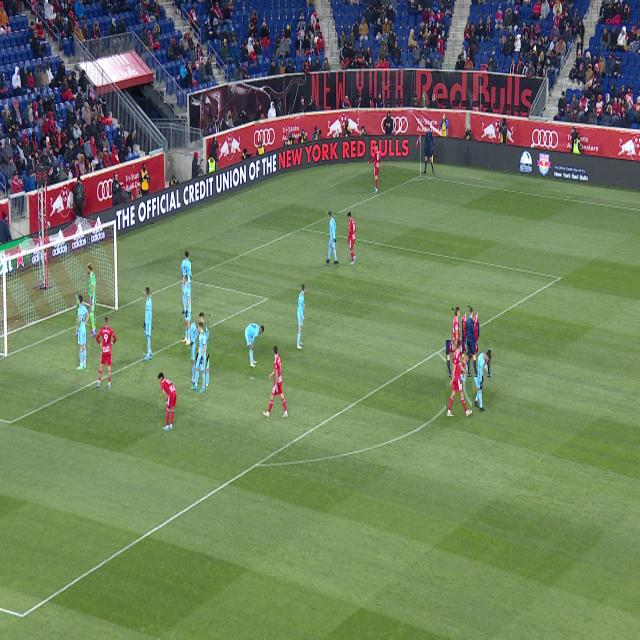goalkeeper: (88, 263, 96, 338)
player: (447, 340, 472, 417), (263, 345, 289, 418), (96, 315, 117, 390), (158, 372, 177, 431), (76, 295, 90, 370), (474, 351, 491, 410), (192, 322, 206, 393), (245, 323, 264, 367), (180, 251, 192, 313), (296, 284, 306, 351), (200, 312, 209, 386), (182, 275, 191, 345), (453, 308, 463, 369), (144, 288, 152, 360), (327, 212, 337, 265), (462, 307, 472, 357), (347, 211, 356, 265), (472, 354, 481, 377)
referee: (467, 307, 478, 377)
